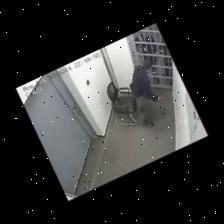person: (130, 59, 162, 102)
